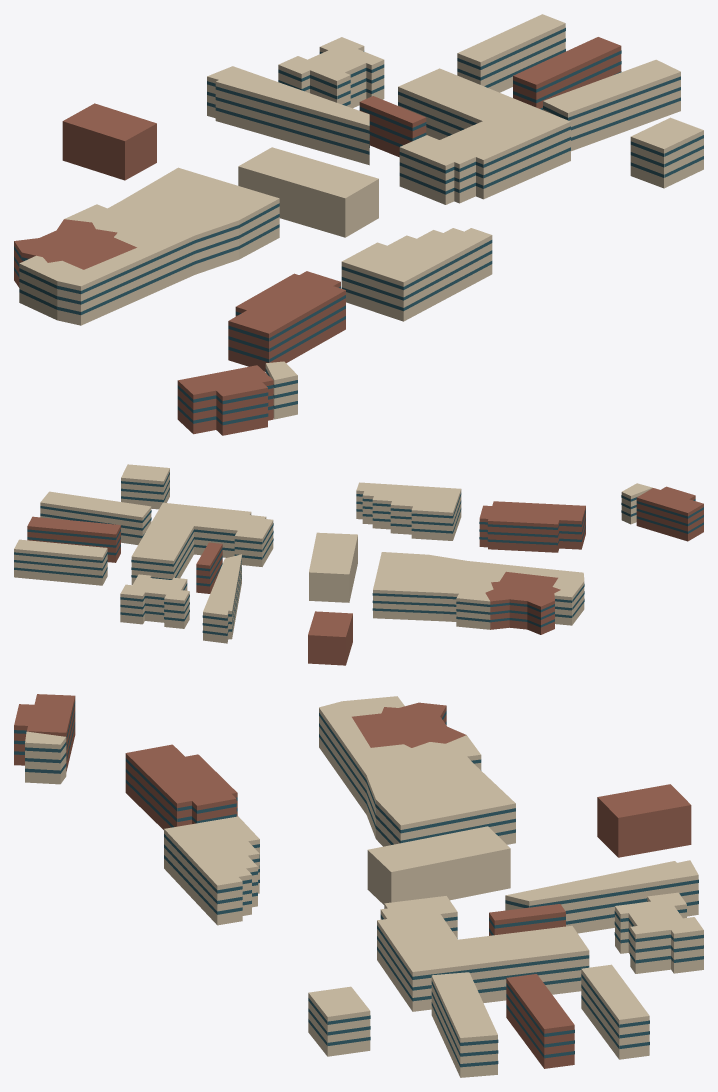
Rendered from city_6_-4.glb.
3 renders of one model, top to bottom at view 1: azimuth 30°, elevation 25°; view 2: azimuth 150°, elevation 25°; view 3: azimuth 270°, elevation 25°, orthographic. The views are drawn at different scales.
Visible parts, largest first — view 1: city_6_-4; view 2: city_6_-4; view 3: city_6_-4.
Boxes of the visible parts, left/top/right/bottom form: city_6_-4: left=14, top=14, right=703, bottom=435; city_6_-4: left=14, top=464, right=703, bottom=665; city_6_-4: left=14, top=694, right=703, bottom=1077.
Bounding box in the file's own units: 278 × 15 × 236.
